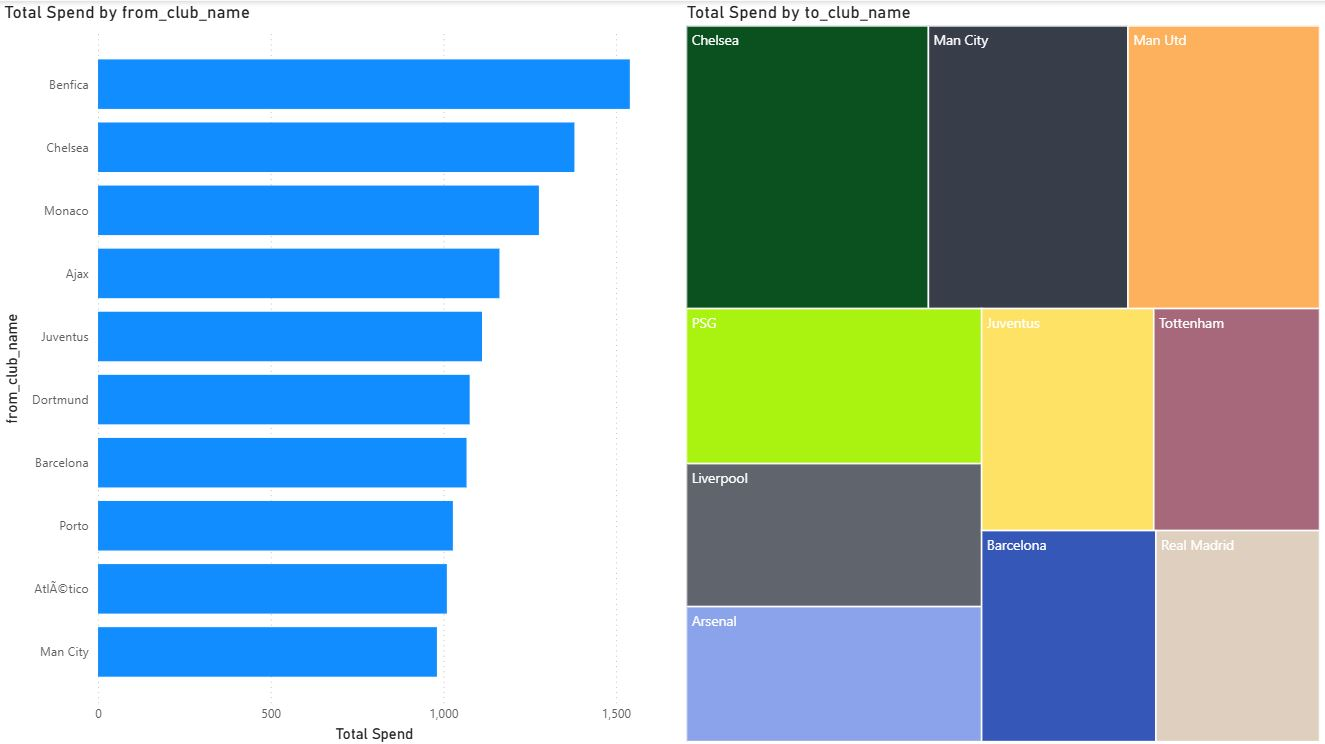

Layout of this report page (visuals, bound fields, positions):
{"tool":"powerbi","page":{"name":"Page 3","canvas":[1280,720],"ordinal":2},"visuals":[{"type":"clusteredBarChart","fields":{"Category":["transfers_cleaned.from_club_name"],"Y":["transfers_cleaned.Total Spend"]},"box":[0,0,649.1,720.4],"z":0},{"type":"treemap","fields":{"Group":["transfers_cleaned.to_club_name"],"Values":["transfers_cleaned.Total Spend"]},"box":[659,0,621,720],"z":1000}]}

Visuals, with their boxes in screenshot pixels (x1, y1, x2, y2), scaled from the page's 1280x720 canvas onto the 1325x744 screenshot:
clusteredBarChart - transfers_cleaned.from_club_name x transfers_cleaned.Total Spend: select_region(0, 0, 672, 743)
treemap - transfers_cleaned.to_club_name x transfers_cleaned.Total Spend: select_region(682, 0, 1324, 743)
